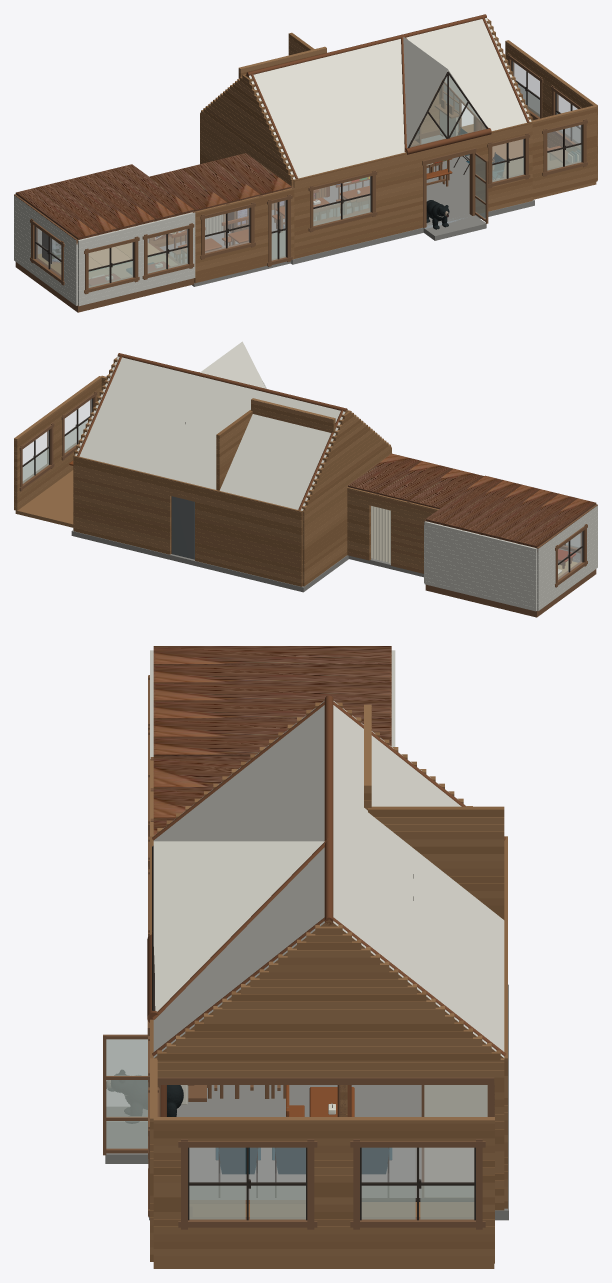
The model's file is yamanoie-illustrated.glb.
3 views of the same model, one above another, from view 1: azimuth 30°, elevation 25°; view 2: azimuth 150°, elevation 25°; view 3: azimuth 270°, elevation 25° (orthographic). The views are drawn at different scales.
Parts seen in each view (by area): view 1: web_roof, web_01_MAIN_SHELL, web_08_TATAMI_ROOM, web_14_BLUE_CHAIR_REAR_BAY, web_03_OPENINGS, web_07_LOW_DINING_BAY, web_04_MAIN_FURNITURE, web_15_ENTRANCE_BEAR; view 2: web_roof, web_01_MAIN_SHELL, web_08_TATAMI_ROOM, web_14_BLUE_CHAIR_REAR_BAY, web_07_LOW_DINING_BAY, web_06_EQUIPMENT_DOOR_AND_SINK; view 3: web_roof, web_14_BLUE_CHAIR_REAR_BAY, web_01_MAIN_SHELL, web_03_OPENINGS, web_04_MAIN_FURNITURE, web_15_ENTRANCE_BEAR, web_08_TATAMI_ROOM.
Boxes of the visible parts, bbox=[...] form: web_roof: bbox=[14, 14, 532, 244]; web_01_MAIN_SHELL: bbox=[200, 84, 534, 264]; web_08_TATAMI_ROOM: bbox=[14, 194, 195, 312]; web_14_BLUE_CHAIR_REAR_BAY: bbox=[434, 40, 597, 199]; web_03_OPENINGS: bbox=[308, 71, 530, 232]; web_07_LOW_DINING_BAY: bbox=[148, 188, 294, 286]; web_04_MAIN_FURNITURE: bbox=[272, 127, 505, 232]; web_15_ENTRANCE_BEAR: bbox=[423, 200, 486, 240]; web_roof: bbox=[74, 341, 597, 551]; web_01_MAIN_SHELL: bbox=[71, 446, 391, 592]; web_08_TATAMI_ROOM: bbox=[424, 504, 597, 617]; web_14_BLUE_CHAIR_REAR_BAY: bbox=[14, 375, 106, 527]; web_07_LOW_DINING_BAY: bbox=[347, 487, 438, 577]; web_06_EQUIPMENT_DOOR_AND_SINK: bbox=[171, 496, 194, 559]; web_roof: bbox=[150, 646, 505, 1060]; web_14_BLUE_CHAIR_REAR_BAY: bbox=[148, 1058, 494, 1268]; web_01_MAIN_SHELL: bbox=[149, 834, 508, 1220]; web_03_OPENINGS: bbox=[103, 845, 351, 1158]; web_04_MAIN_FURNITURE: bbox=[180, 1085, 392, 1197]; web_15_ENTRANCE_BEAR: bbox=[105, 1070, 183, 1163]; web_08_TATAMI_ROOM: bbox=[148, 650, 395, 837].
Size of the model in its own units: 18.47 by 5.3 by 6.49.
66 materials, 27 textured.
